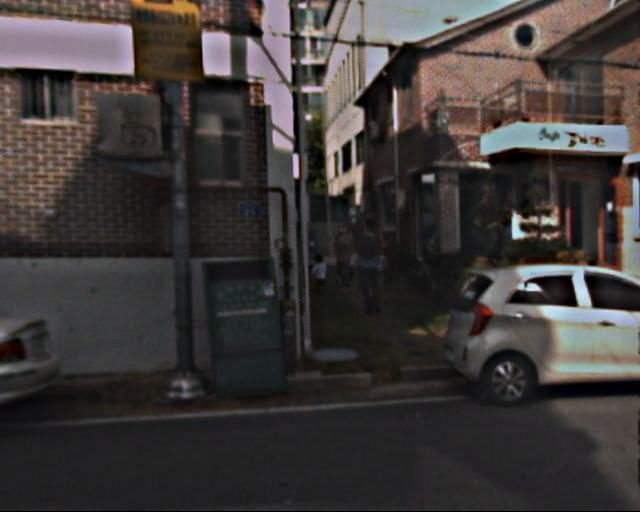person: (349, 218, 391, 317), (328, 222, 361, 296), (309, 256, 329, 297)
